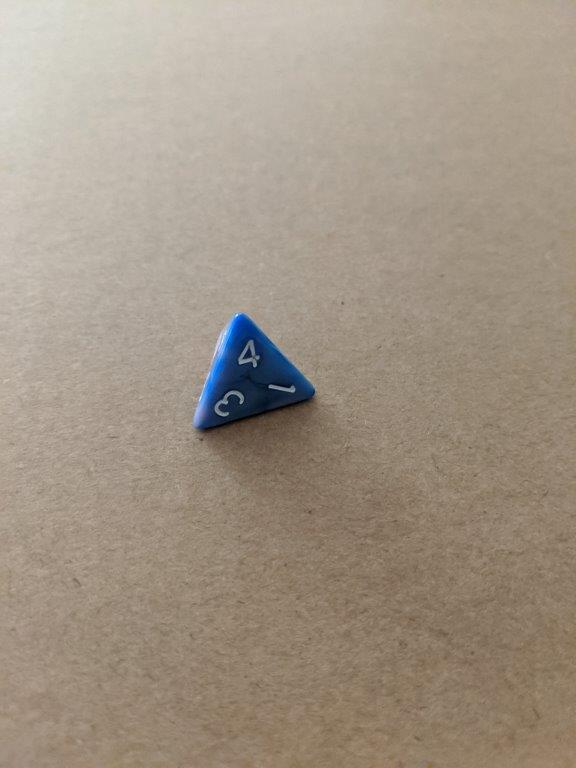d4-4: (192, 312, 317, 433)
